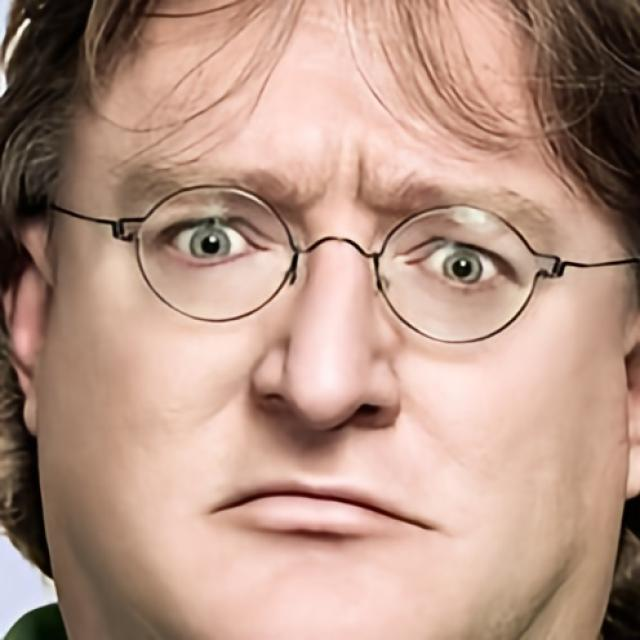fear: (32, 0, 639, 640)
